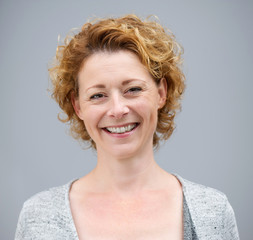young: (55, 20, 170, 159)
